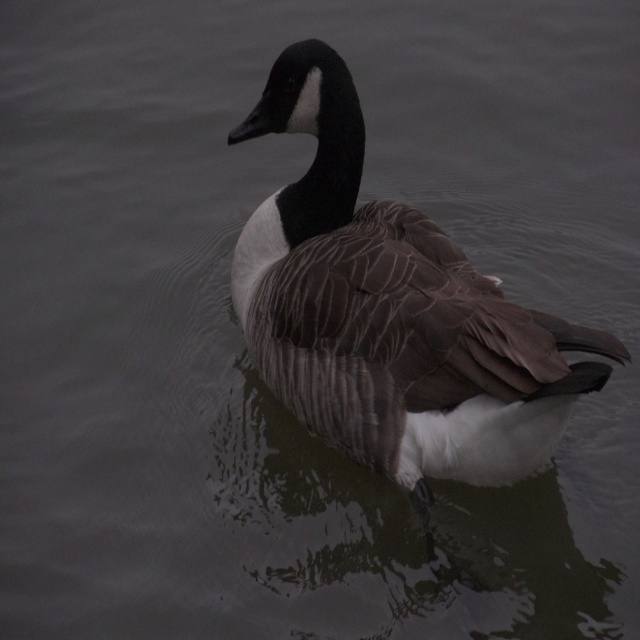Duck: (228, 39, 633, 581)
